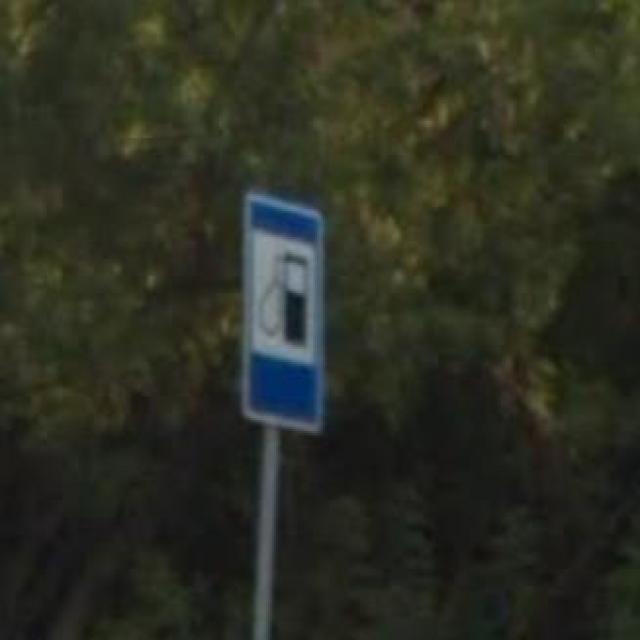refueling: (241, 188, 327, 433)
